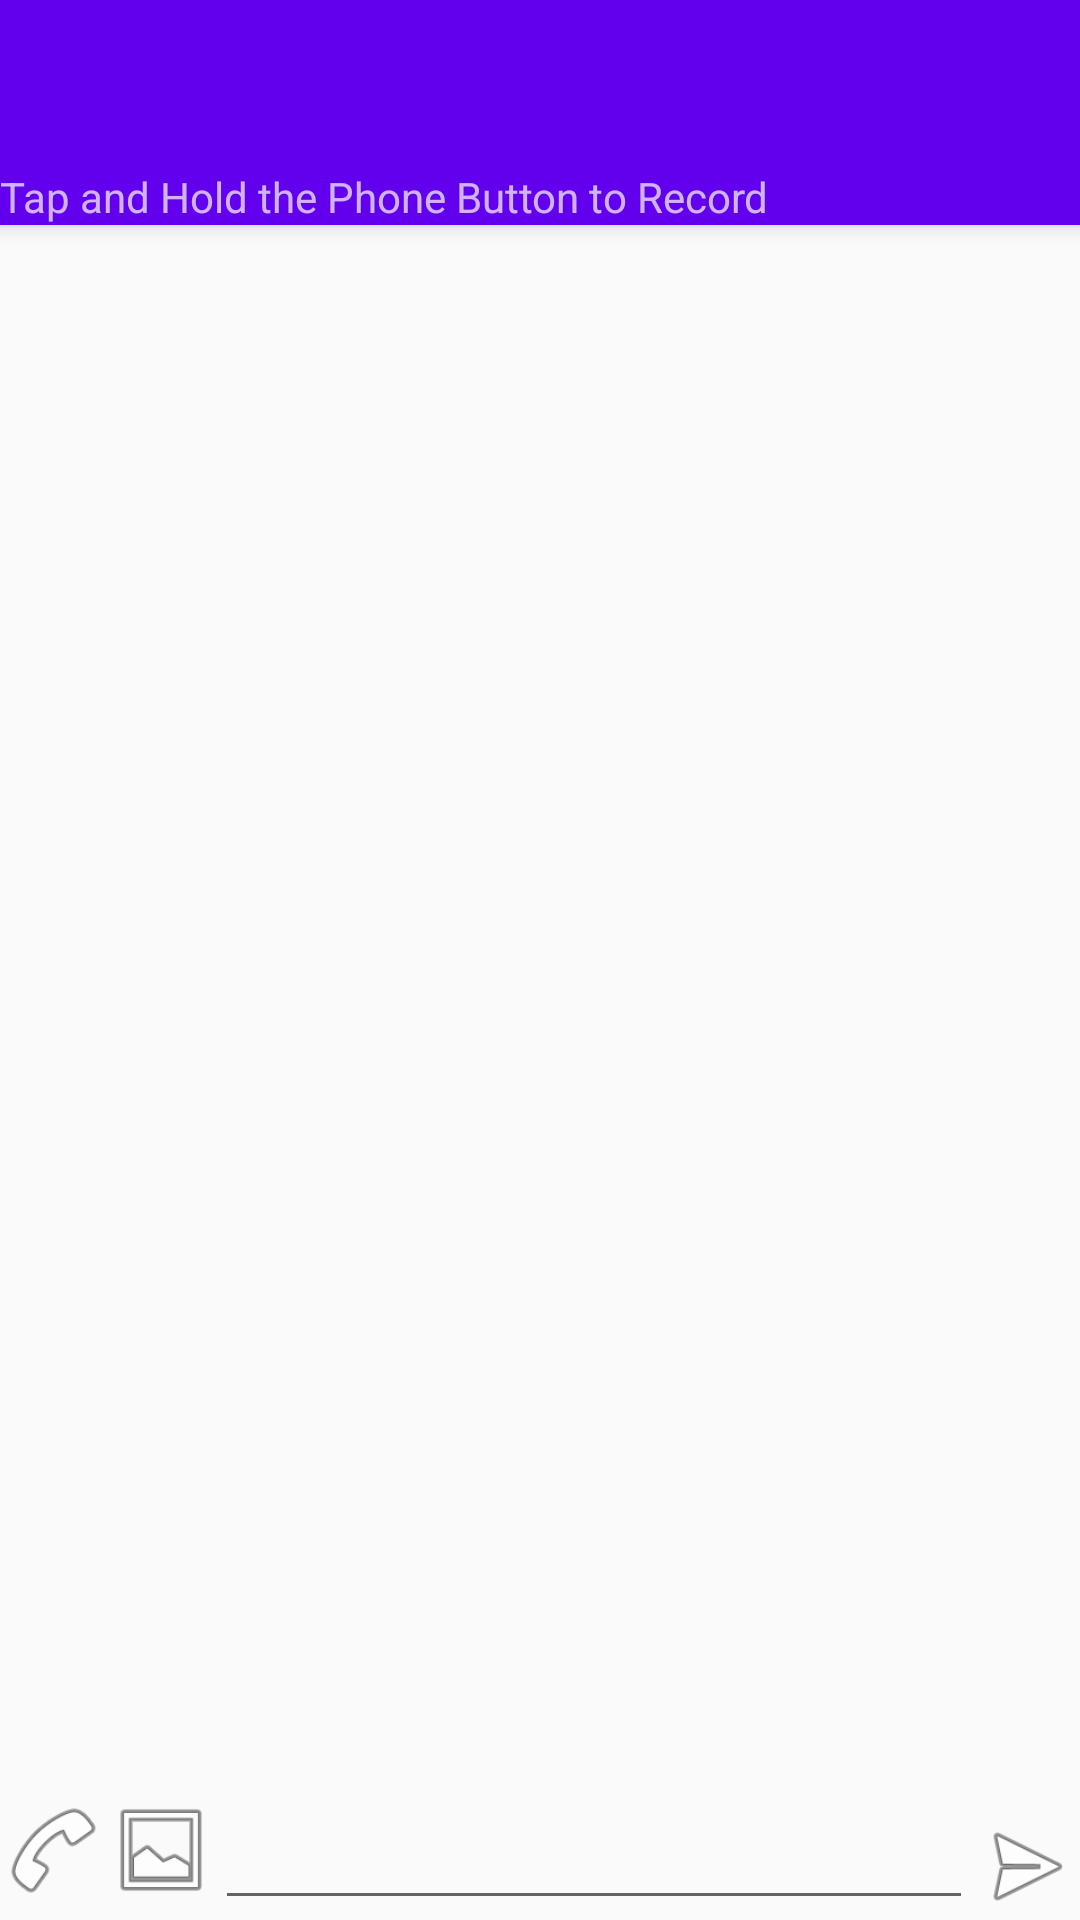

Screen size 1080 x 1920. Icon name, then its center in pixels as (x,y):
call: (53,1850)
gallery: (161,1850)
send: (1028,1866)
